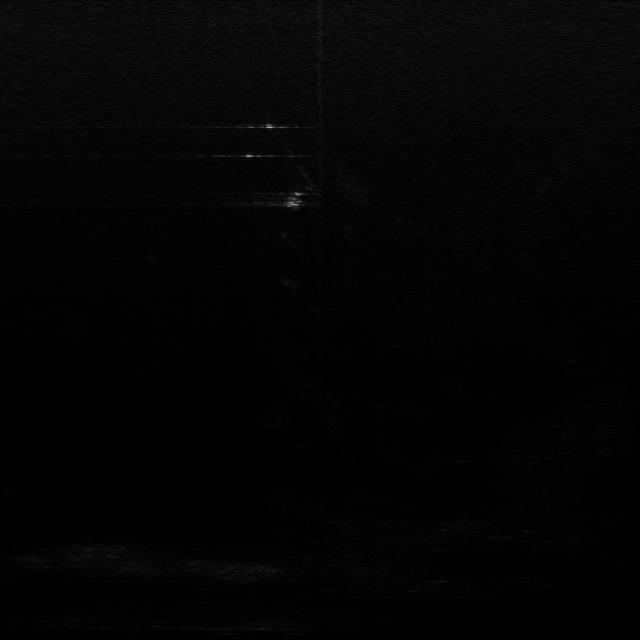rov: (283, 192, 306, 211)
